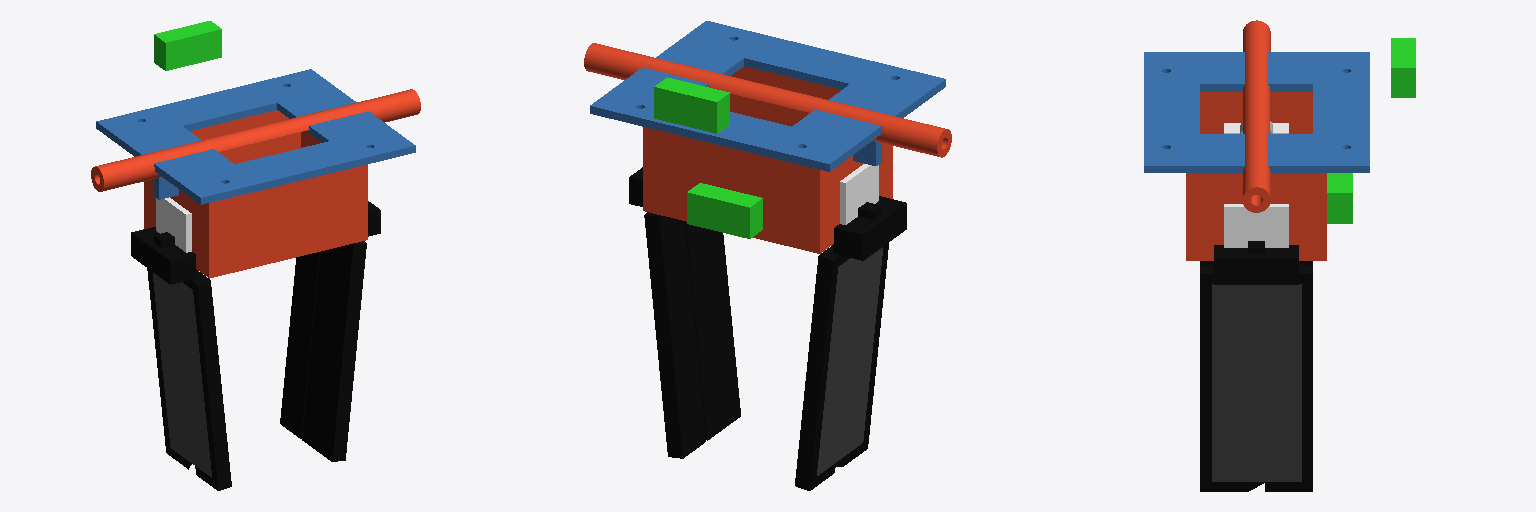
URDF robot description (starling_gripper):
<?xml version="1.0"?>
<!-- Starling 2 Max (official CAD mesh) + parallel-jaw gripper.
     Units: metres, kg. Z up. Body floor at z=0, legs reach z=-0.0676.
     Meshes are in mm -> scale 0.001. Collisions are primitives (fast + stable);
     Isaac Sim can also auto-generate convex hulls from the visuals. -->
<robot name="starling_gripper">
  <mujoco><compiler discardvisual="false" fusestatic="false"/></mujoco>

  <!-- ===== drone body: real Starling 2 Max visual, box collisions ===== -->
  <link name="drone_body">
    <inertial><mass value="0.566"/><origin xyz="0 0 0.02"/><inertia ixx="0.006" iyy="0.006" izz="0.01" ixy="0" ixz="0" iyz="0"/></inertial>
    <visual><origin xyz="0 0 0"/><geometry><mesh filename="meshes/starling.stl" scale="0.001 0.001 0.001"/></geometry></visual>
    <!-- collision proxies: central body + 4 legs (match landing behaviour) -->
    <collision><origin xyz="0 0 0.03"/><geometry><box size="0.12 0.10 0.06"/></geometry></collision>
    <collision><origin xyz="0.125 0.092 -0.0338"/><geometry><box size="0.029 0.022 0.0676"/></geometry></collision>
    <collision><origin xyz="-0.125 0.092 -0.0338"/><geometry><box size="0.029 0.022 0.0676"/></geometry></collision>
    <collision><origin xyz="0.125 -0.092 -0.0338"/><geometry><box size="0.029 0.022 0.0676"/></geometry></collision>
    <collision><origin xyz="-0.125 -0.092 -0.0338"/><geometry><box size="0.029 0.022 0.0676"/></geometry></collision>
    <!-- forward camera (green) -->
    <visual><origin xyz="0 0.052 0.0"/><geometry><mesh filename="meshes/camera_block.stl" scale="0.001 0.001 0.001"/></geometry>
      <material name="green"><color rgba="0.2 0.9 0.2 1"/></material></visual>
  </link>

  <!-- ===== adapter plate 95x80x3 ===== -->
  <link name="adapter_plate">
    <inertial><mass value="0.02"/><inertia ixx="1e-5" iyy="1e-5" izz="2e-5" ixy="0" ixz="0" iyz="0"/></inertial>
    <visual><geometry><mesh filename="meshes/adapter_plate.stl" scale="0.001 0.001 0.001"/></geometry>
      <material name="blue"><color rgba="0.27 0.5 0.75 1"/></material></visual>
    <collision><geometry><box size="0.095 0.080 0.003"/></geometry></collision>
  </link>
  <joint name="plate_mount" type="fixed">
    <parent link="drone_body"/><child link="adapter_plate"/><origin xyz="0 0 -0.0175"/>
  </joint>

  <!-- ===== gripper frame: hinge on plate, stow axis = X, 0 = down, ~90 deg = folded ===== -->
  <link name="gripper_frame">
    <inertial><mass value="0.06"/><origin xyz="0 0 -0.02"/><inertia ixx="2e-5" iyy="2e-5" izz="2e-5" ixy="0" ixz="0" iyz="0"/></inertial>
    <visual><geometry><mesh filename="meshes/gripper_frame.stl" scale="0.001 0.001 0.001"/></geometry>
      <material name="red"><color rgba="0.95 0.33 0.2 1"/></material></visual>
    <collision><origin xyz="0 0 -0.02"/><geometry><box size="0.070 0.050 0.040"/></geometry></collision>
    <!-- servos + pinions (visual) -->
    <visual><origin xyz="0.0312 0 -0.02925"/><geometry><mesh filename="meshes/servo_mg90s.stl" scale="0.001 0.001 0.001"/></geometry>
      <material name="white"><color rgba="1 1 1 1"/></material></visual>
    <visual><origin xyz="-0.0312 0 -0.02925"/><geometry><mesh filename="meshes/servo_mg90s.stl" scale="0.001 0.001 0.001"/></geometry>
      <material name="white"/></visual>
    <visual><origin xyz="0.026 0 -0.019"/><geometry><mesh filename="meshes/pinion.stl" scale="0.001 0.001 0.001"/></geometry>
      <material name="silver"><color rgba="0.75 0.75 0.75 1"/></material></visual>
    <visual><origin xyz="-0.026 0 -0.019" rpy="0 3.14159 0"/><geometry><mesh filename="meshes/pinion.stl" scale="0.001 0.001 0.001"/></geometry>
      <material name="silver"/></visual>
    <!-- down-facing camera on front face of body -->
    <visual><origin xyz="0 0.0295 -0.03"/><geometry><mesh filename="meshes/camera_block.stl" scale="0.001 0.001 0.001"/></geometry>
      <material name="green"/></visual>
  </link>
  <joint name="stow" type="revolute">
    <parent link="adapter_plate"/><child link="gripper_frame"/>
    <origin xyz="0 0 -0.0015"/><axis xyz="-1 0 0"/>
    <limit lower="0" upper="1.6" effort="3" velocity="3"/>
  </joint>

  <!-- ===== parallel-jaw fingers: slide along X, value = distance from centre (m) ===== -->
  <link name="finger_left">
    <inertial><mass value="0.012"/><origin xyz="0 0 -0.045"/><inertia ixx="1e-5" iyy="1e-5" izz="1e-6" ixy="0" ixz="0" iyz="0"/></inertial>
    <visual><geometry><mesh filename="meshes/finger_left.stl" scale="0.001 0.001 0.001"/></geometry>
      <material name="black"><color rgba="0.08 0.08 0.08 1"/></material></visual>
    <visual><geometry><mesh filename="meshes/pad_left.stl" scale="0.001 0.001 0.001"/></geometry>
      <material name="pad"><color rgba="0.3 0.3 0.3 1"/></material></visual>
    <collision><origin xyz="0.002 -0.0 -0.045"/><geometry><box size="0.007 0.040 0.090"/></geometry></collision>
  </link>
  <joint name="servo_left" type="prismatic">
    <parent link="gripper_frame"/><child link="finger_left"/>
    <origin xyz="0 0 -0.044"/><axis xyz="-1 0 0"/>
    <limit lower="0.015" upper="0.060" effort="20" velocity="0.2"/>
  </joint>

  <link name="finger_right">
    <inertial><mass value="0.012"/><origin xyz="0 0 -0.045"/><inertia ixx="1e-5" iyy="1e-5" izz="1e-6" ixy="0" ixz="0" iyz="0"/></inertial>
    <visual><geometry><mesh filename="meshes/finger_right.stl" scale="0.001 0.001 0.001"/></geometry>
      <material name="black"/></visual>
    <visual><geometry><mesh filename="meshes/pad_right.stl" scale="0.001 0.001 0.001"/></geometry>
      <material name="pad"/></visual>
    <collision><origin xyz="-0.002 0 -0.045"/><geometry><box size="0.007 0.040 0.090"/></geometry></collision>
  </link>
  <joint name="servo_right" type="prismatic">
    <parent link="gripper_frame"/><child link="finger_right"/>
    <origin xyz="0 0 -0.044"/><axis xyz="1 0 0"/>
    <limit lower="0.015" upper="0.060" effort="20" velocity="0.2"/>
  </joint>
</robot>

--- Render facts (derived) ---
The picture shows the robot from 3 angles, left to right: view 1: azimuth 30°, elevation 25°; view 2: azimuth 150°, elevation 25°; view 3: azimuth 270°, elevation 25°; orthographic projection.
Model starling_gripper with 5 links and 4 joints (1 revolute, 2 prismatic, 1 fixed), rooted at drone_body, posed all joints at 0 but 2 set to mid-range because 0 is outside their limits (servo_left = 0.0375, servo_right = 0.0375).
Visible links, largest first — view 1: gripper_frame, adapter_plate, finger_left, finger_right, drone_body; view 2: gripper_frame, adapter_plate, finger_left, finger_right, drone_body; view 3: finger_right, adapter_plate, gripper_frame, drone_body.
Boxes of the visible links, box(x1,y1,x2,y2) form: gripper_frame: box(91, 89, 420, 278); adapter_plate: box(96, 69, 415, 204); finger_left: box(131, 227, 231, 490); finger_right: box(280, 201, 380, 461); drone_body: box(154, 21, 221, 70); gripper_frame: box(584, 43, 951, 253); adapter_plate: box(590, 21, 945, 171); finger_left: box(795, 196, 906, 490); finger_right: box(629, 167, 740, 458); drone_body: box(654, 77, 729, 133); finger_right: box(1200, 241, 1312, 491); adapter_plate: box(1144, 52, 1369, 172); gripper_frame: box(1186, 20, 1352, 260); drone_body: box(1391, 38, 1415, 97).
Bounding box of the posed robot: 0.14 × 0.0965 × 0.1585 m (x, y, z).
12 mesh visuals loaded from 10 distinct referenced files (9 binary STL); not drawn: 1 (reference not matched to a file when rendering).
